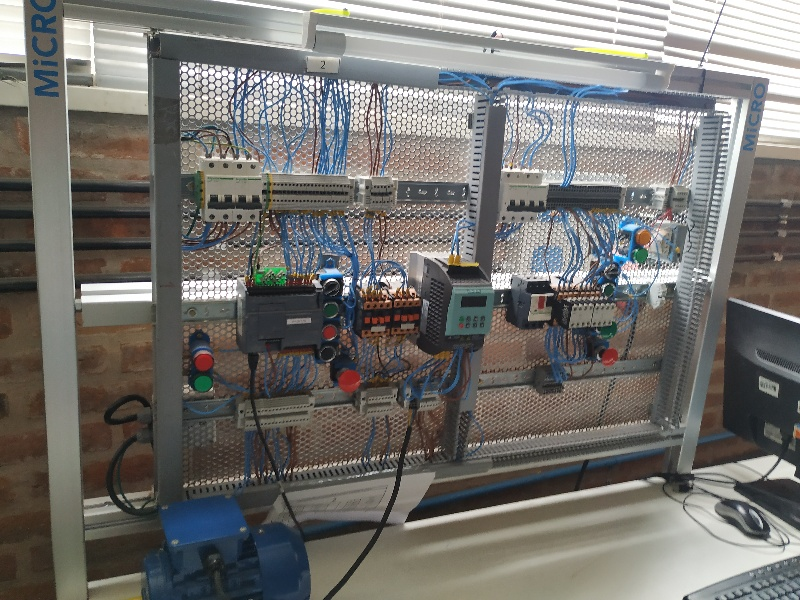Tablero 2: (170, 50, 709, 456)
